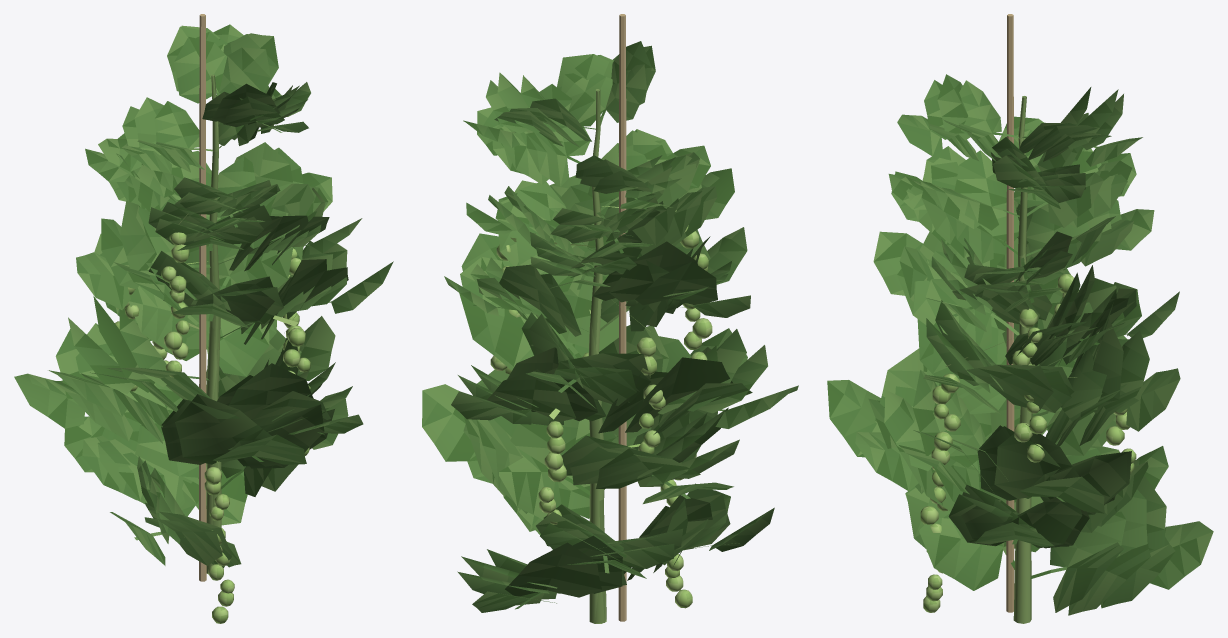
File: tomate_cerise_vert.glb
The picture shows the model from 3 angles, left to right: view 1: azimuth 30°, elevation 25°; view 2: azimuth 150°, elevation 25°; view 3: azimuth 270°, elevation 25°; orthographic projection. The views are drawn at different scales.
Parts seen in each view (by area): view 1: Tomate_Feuilles, Tomate_Fruits, Tomate_Tuteur, Tomate_Tige; view 2: Tomate_Feuilles, Tomate_Fruits, Tomate_Tige, Tomate_Tuteur; view 3: Tomate_Feuilles, Tomate_Fruits, Tomate_Tige, Tomate_Tuteur.
Boxes of the visible parts, x1,y1,x2,y2 form: Tomate_Feuilles: (14,24,393,567); Tomate_Fruits: (115,213,310,623); Tomate_Tuteur: (199,14,206,581); Tomate_Tige: (206,74,221,573); Tomate_Feuilles: (422,41,798,612); Tomate_Fruits: (490,206,712,608); Tomate_Tige: (588,89,606,623); Tomate_Tuteur: (618,14,626,621); Tomate_Feuilles: (827,74,1213,615); Tomate_Fruits: (920,204,1136,612); Tomate_Tige: (1013,96,1032,623); Tomate_Tuteur: (1006,14,1014,612).
Bounding box in the file's own units: 0.5806 × 0.9988 × 0.5761.
